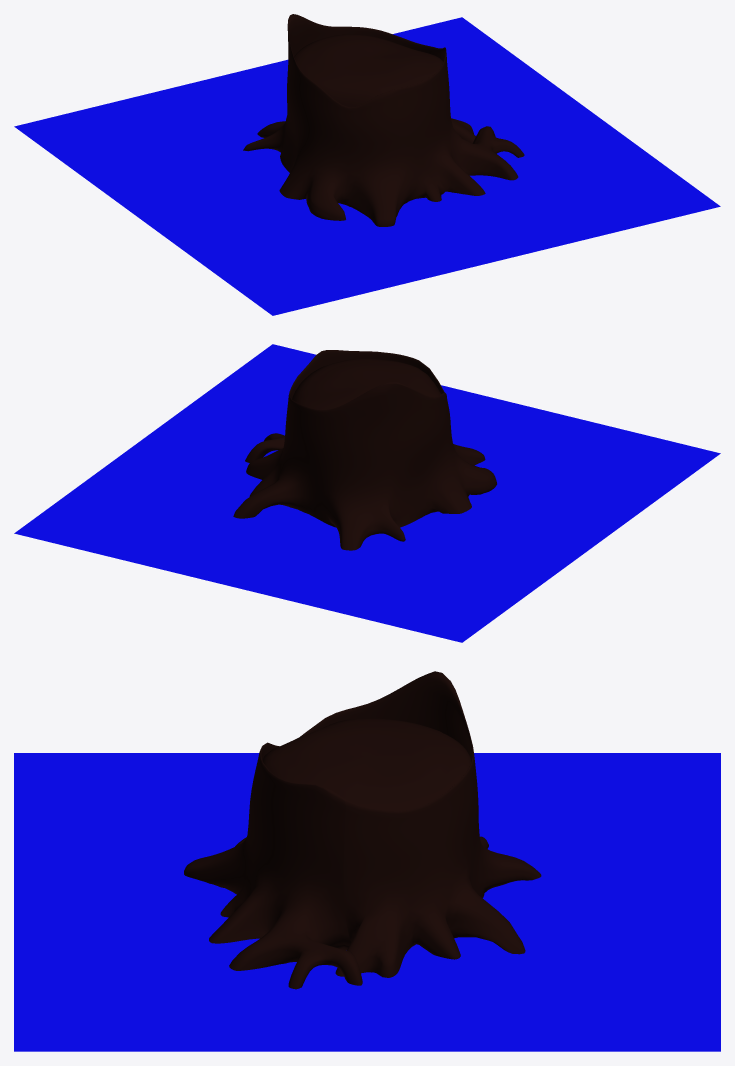
The picture shows the model from 3 angles, top to bottom: view 1: azimuth 30°, elevation 25°; view 2: azimuth 150°, elevation 25°; view 3: azimuth 270°, elevation 25°; orthographic projection. The views are drawn at different scales.
Visible parts, largest first — view 1: Plane, Cylinder; view 2: Plane, Cylinder; view 3: Plane, Cylinder.
Boxes of the visible parts, <box> form: Plane: <box>14,17,720,315</box>; Cylinder: <box>243,14,524,226</box>; Plane: <box>14,344,720,642</box>; Cylinder: <box>233,350,496,550</box>; Plane: <box>14,753,720,1051</box>; Cylinder: <box>184,671,541,989</box>.
Bounding box in the file's own units: 2 × 0.8508 × 2.
